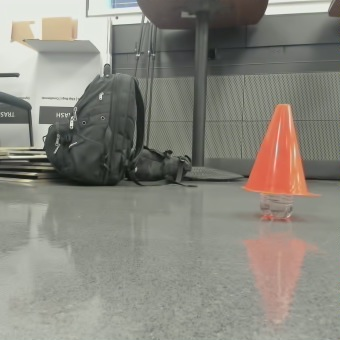Cone: (251, 99, 314, 188)
